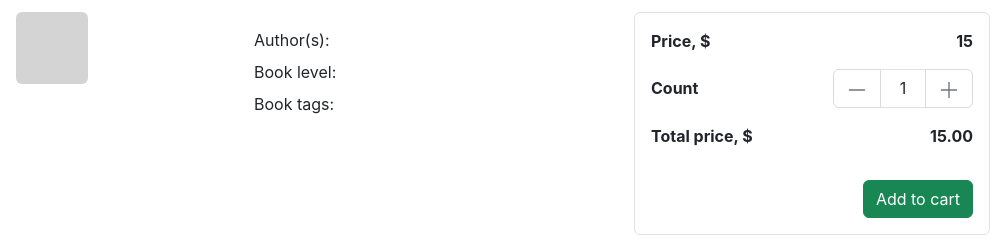
Test: Check input of books amount › Input of books count should have the value 2 after step up
This screenshot has width=1007, height=252.
Click the button with test id "button-step-up" at (949, 88), box 925,69 -> 973,108
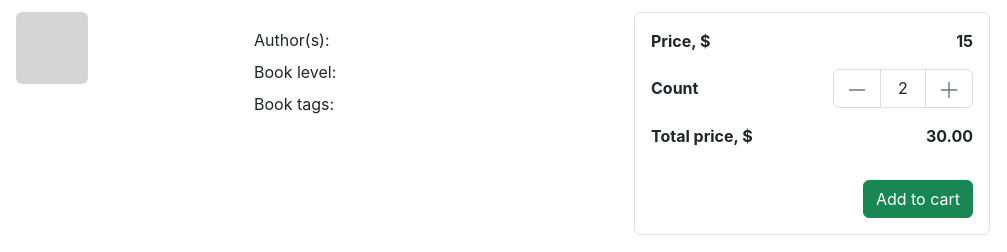
Check: the number field holds "2", box 880,69 -> 926,108
